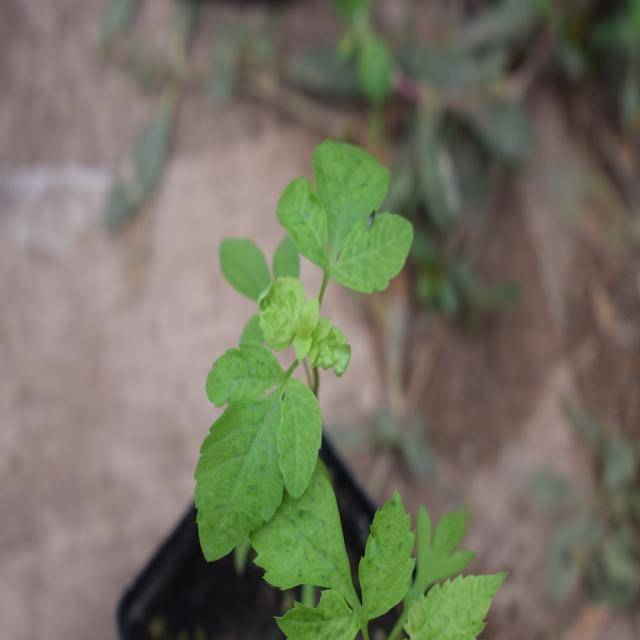Bidens pilosa: (174, 120, 430, 606)
